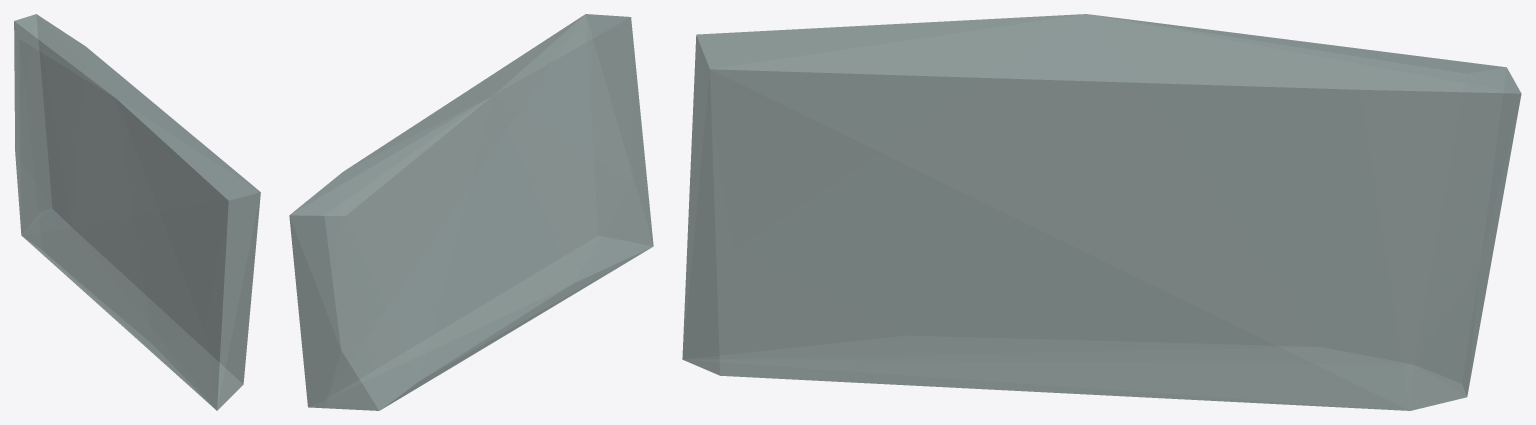
3 views of the same model, side by side, from view 1: azimuth 30°, elevation 25°; view 2: azimuth 150°, elevation 25°; view 3: azimuth 270°, elevation 25° (orthographic). The views are drawn at different scales.
Parts seen in each view (by area): view 1: Shape_IndexedFaceSet.010_Shape_IndexedFaceSet.15623; view 2: Shape_IndexedFaceSet.010_Shape_IndexedFaceSet.15623; view 3: Shape_IndexedFaceSet.010_Shape_IndexedFaceSet.15623.
Boxes of the visible parts, bbox=[...] form: Shape_IndexedFaceSet.010_Shape_IndexedFaceSet.15623: bbox=[14, 14, 260, 410]; Shape_IndexedFaceSet.010_Shape_IndexedFaceSet.15623: bbox=[289, 14, 653, 410]; Shape_IndexedFaceSet.010_Shape_IndexedFaceSet.15623: bbox=[682, 14, 1521, 410].
Size of the model in its own units: 0.0964 by 0.2715 by 0.5693.
